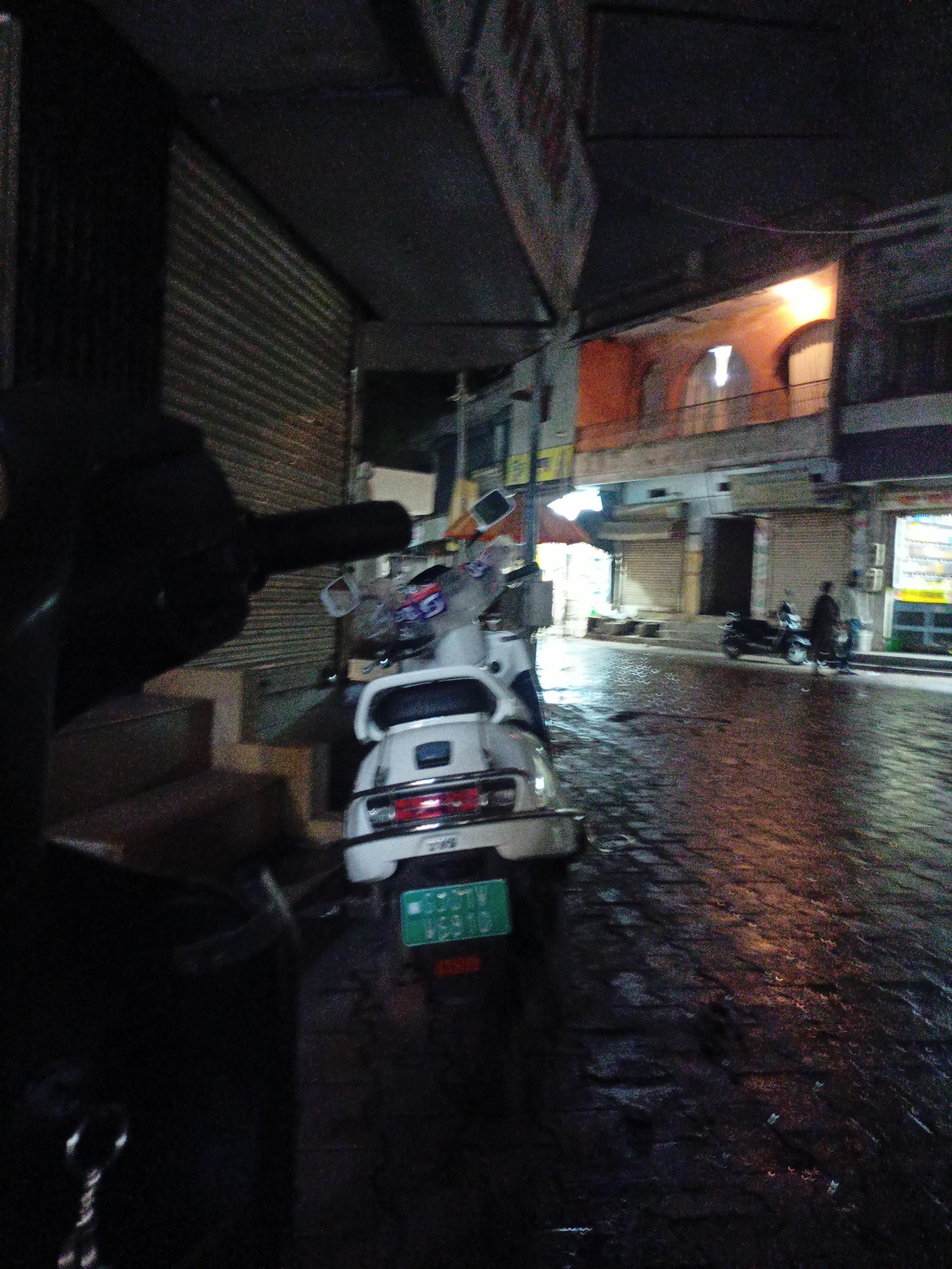green license plate: (394, 872, 518, 955)
